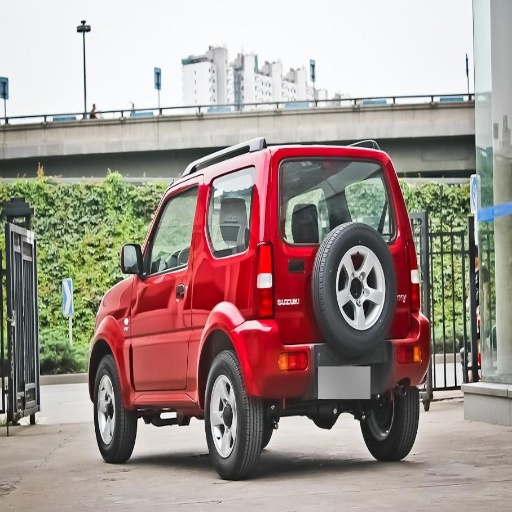trunk: (208, 197, 328, 319), (246, 335, 308, 393)
